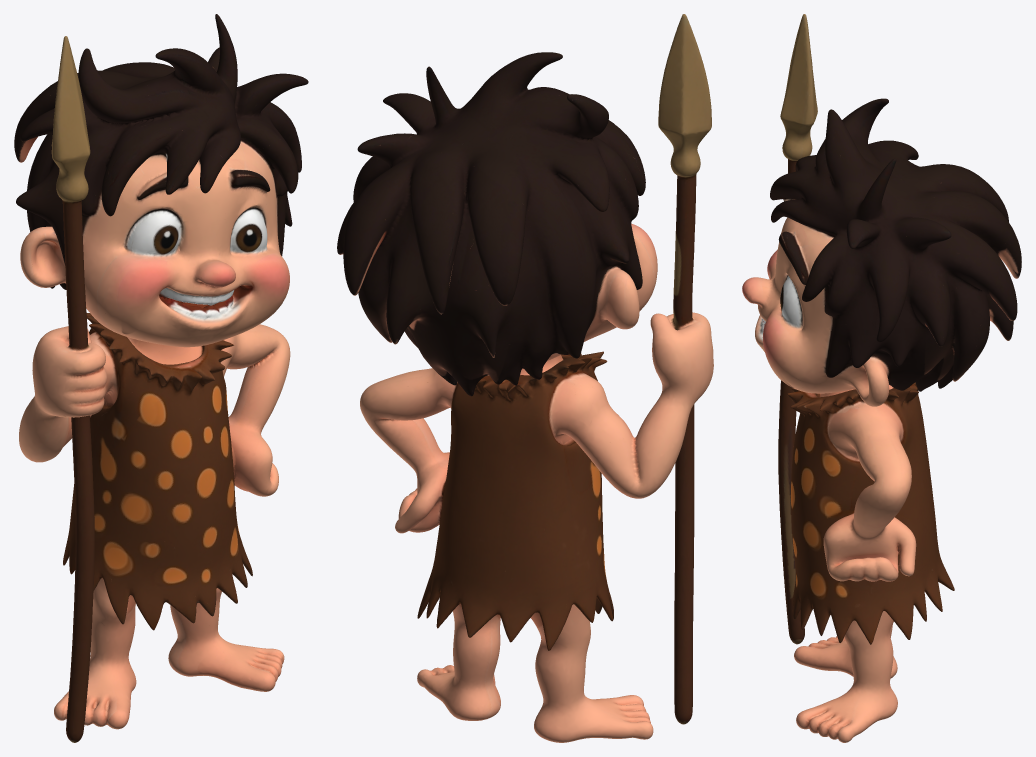
Rendered from Meshy_AI_Little_Spear_Scout_0918003432_texture.glb.
3 renders of one model, left to right at view 1: azimuth 30°, elevation 25°; view 2: azimuth 150°, elevation 25°; view 3: azimuth 270°, elevation 25°, orthographic. The views are drawn at different scales.
Size of the model in its own units: 0.8548 by 1.9 by 0.7668.
Materials: 1 (1 with a texture image).
